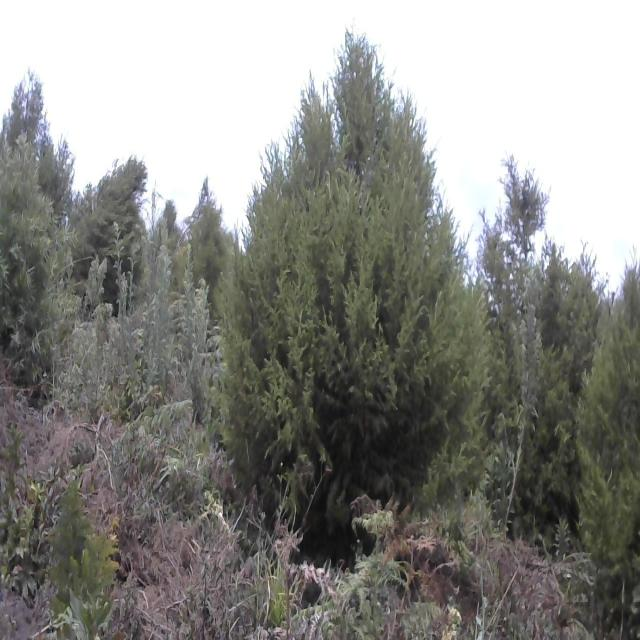Juniperus procesera: (228, 16, 483, 565)
